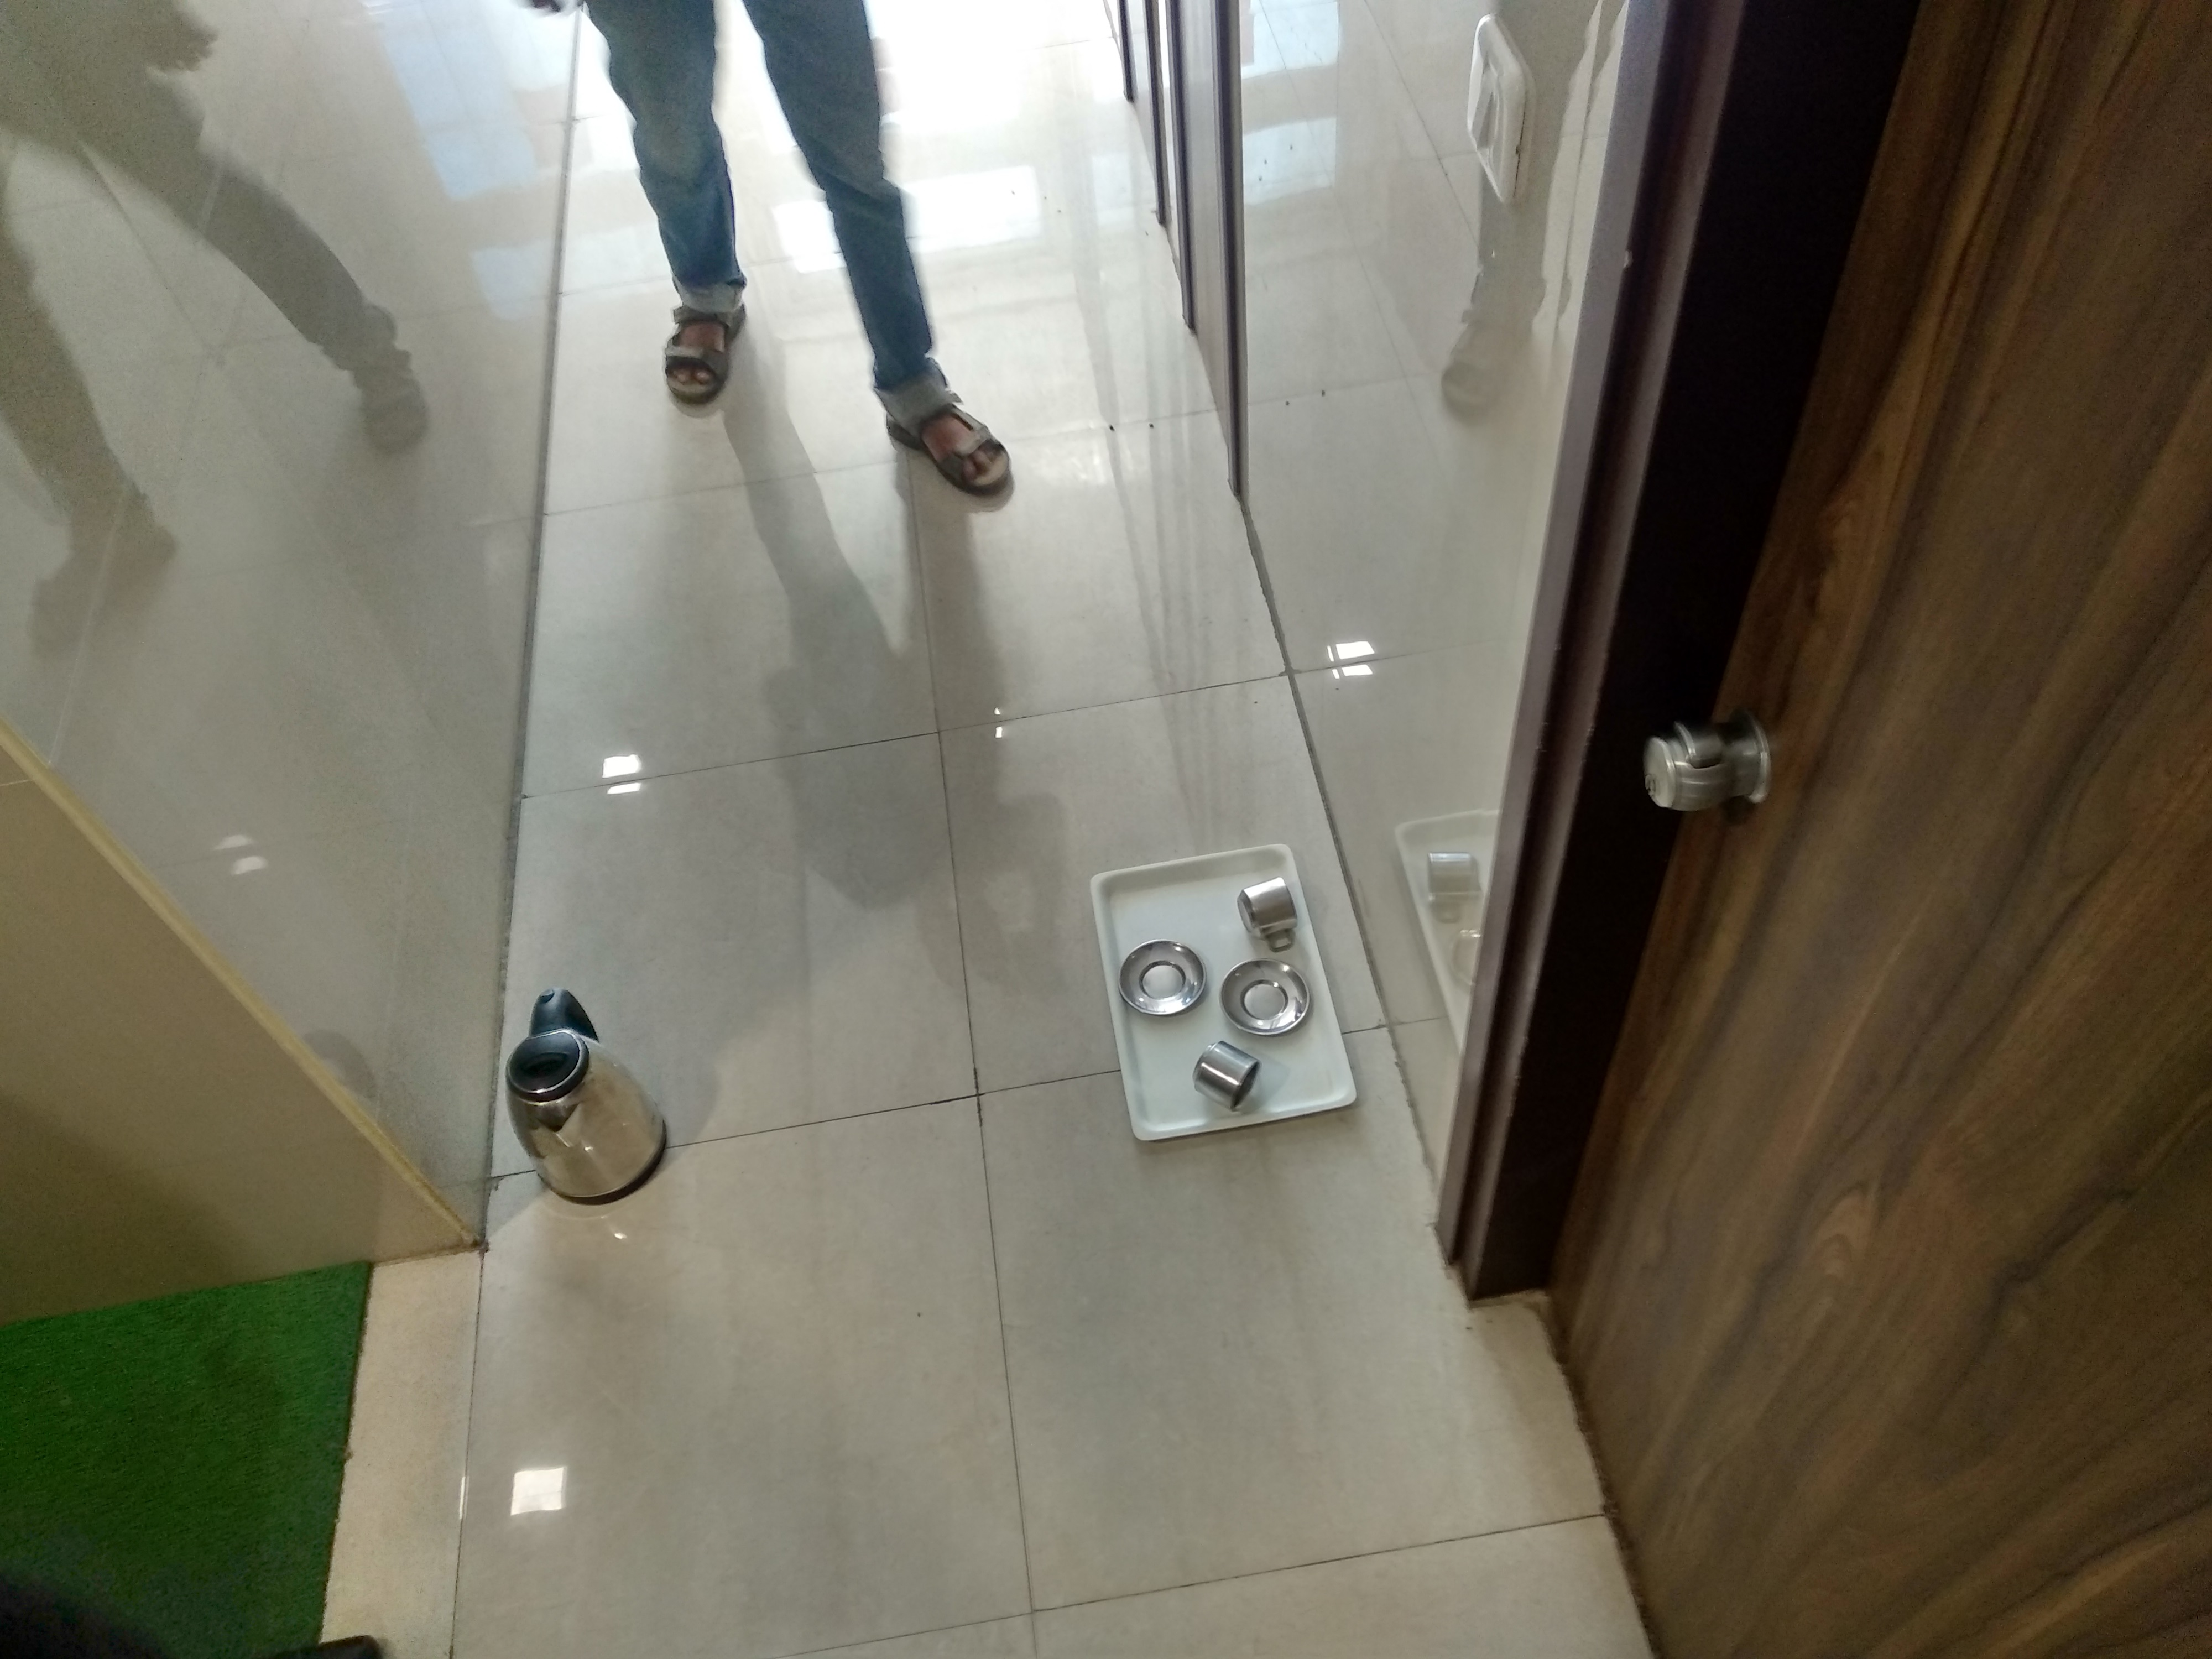CUP: (1242, 875, 1306, 950), (1204, 1051, 1264, 1112)
FLASK: (495, 1000, 667, 1204)
